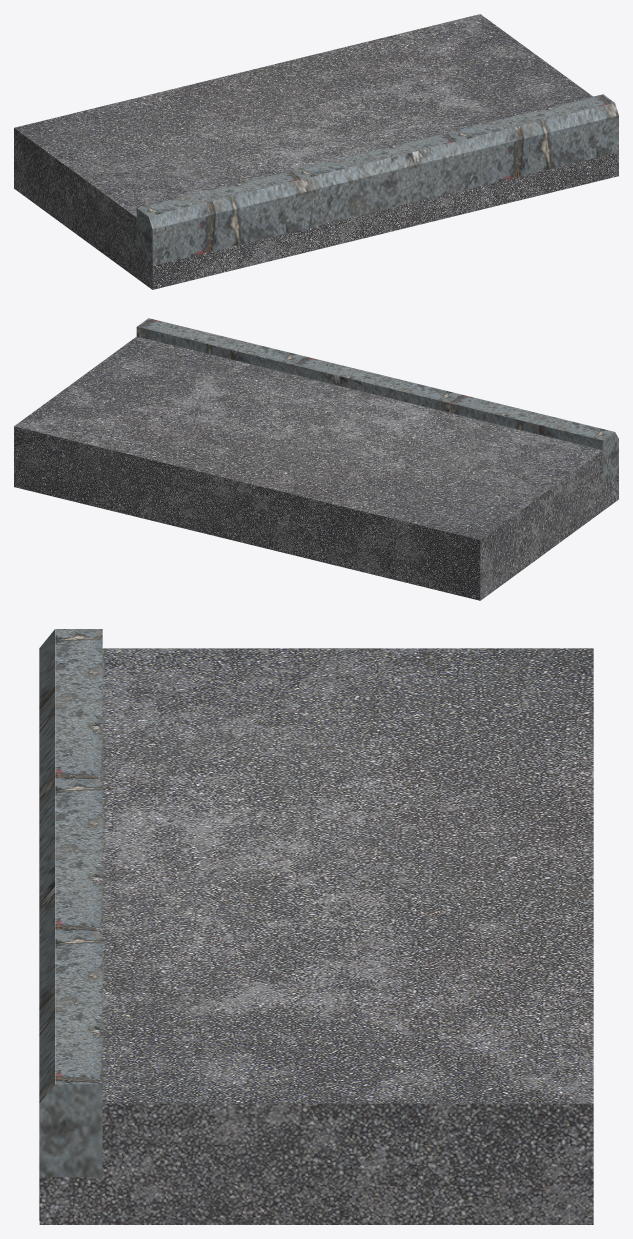
The model's file is sidewalk_line.fbx.
3 views of the same model, one above another, from view 1: azimuth 30°, elevation 25°; view 2: azimuth 150°, elevation 25°; view 3: azimuth 270°, elevation 25° (orthographic). The views are drawn at different scales.
Visible parts, largest first — view 1: trottoir.002; view 2: trottoir.002; view 3: trottoir.002.
Boxes of the visible parts, x1=… form: trottoir.002: x1=14, y1=14, x2=618, y2=289; trottoir.002: x1=14, y1=318, x2=618, y2=600; trottoir.002: x1=39, y1=629, x2=593, y2=1224.
Size of the model in its own units: 21.17 by 3.05 by 10.9.
Materials: 1 (1 with a texture image).
